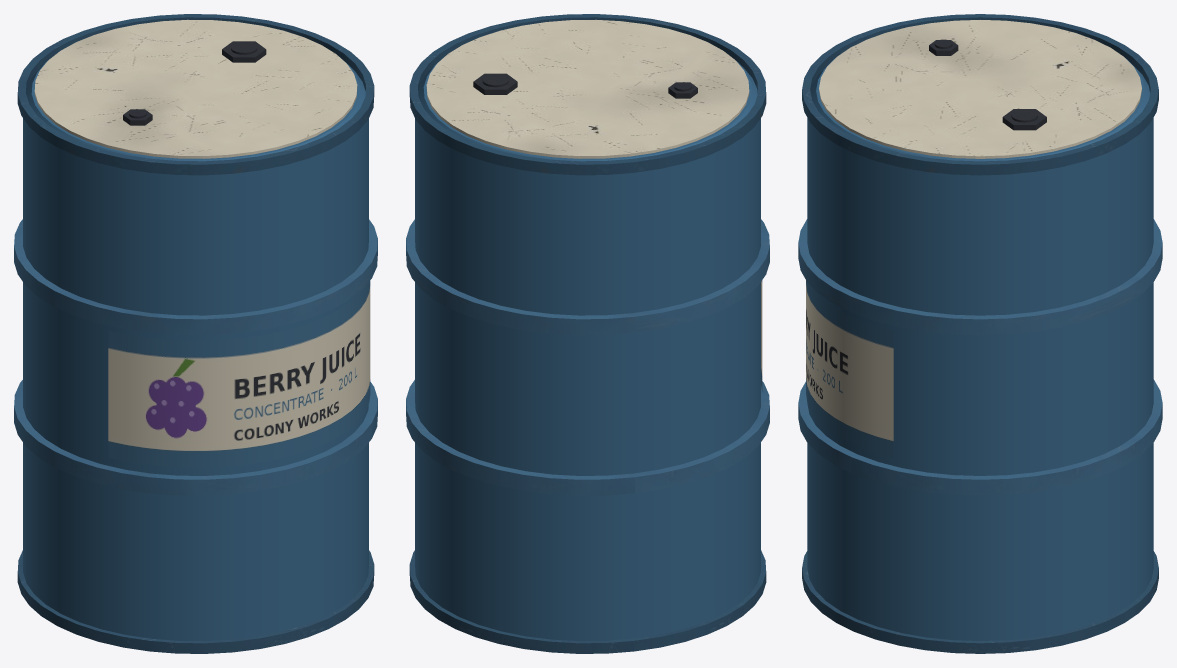
File: juice_drum.glb
3 renders of one model, left to right at view 1: azimuth 30°, elevation 25°; view 2: azimuth 150°, elevation 25°; view 3: azimuth 270°, elevation 25°, orthographic.
Visible parts, largest first — view 1: JuiceDrumBody; view 2: JuiceDrumBody; view 3: JuiceDrumBody.
Part boxes in pixels (x1,y1,x2,y2): JuiceDrumBody: [14, 14, 377, 653]; JuiceDrumBody: [406, 14, 769, 653]; JuiceDrumBody: [798, 14, 1162, 653].
Bounding box in the file's own units: 0.494 × 0.745 × 0.494.
6 materials, 5 textured.
